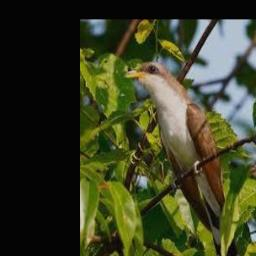Cuckoo: (125, 61, 247, 256)
